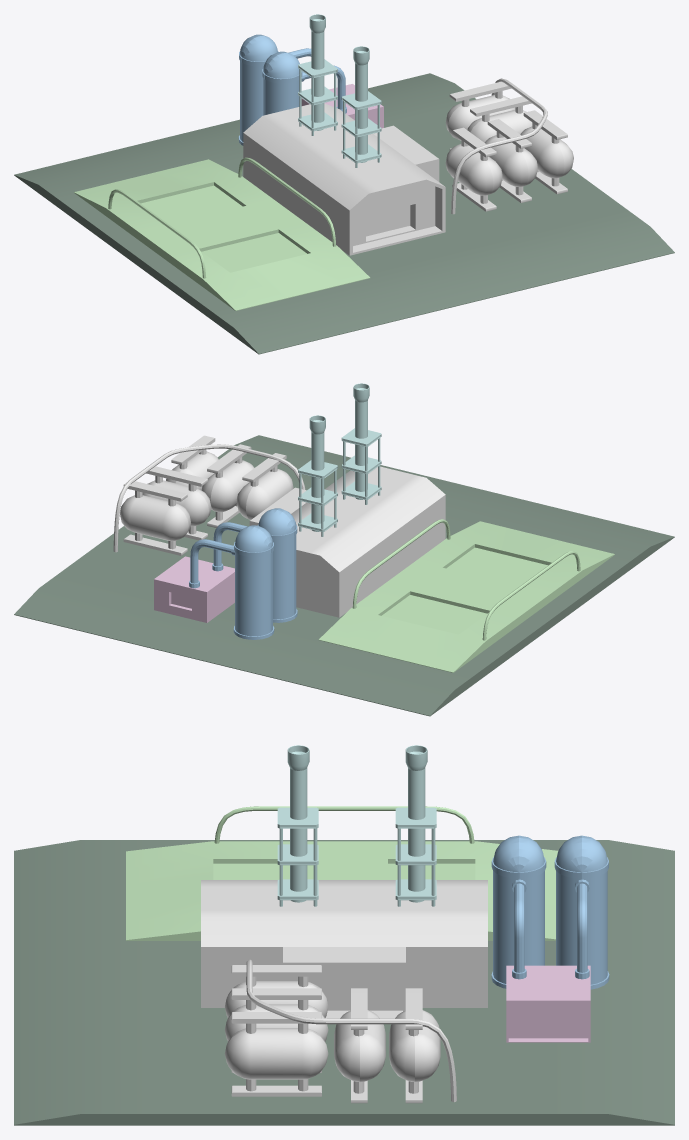
File: Refinery.fbx
3 renders of one model, top to bottom at view 1: azimuth 30°, elevation 25°; view 2: azimuth 150°, elevation 25°; view 3: azimuth 270°, elevation 25°, orthographic. The views are drawn at different scales.
Visible parts, largest first — view 1: Ground_Mesh, DropoffPad_Mesh, MainBuilding_Mesh, TankArray_Mesh, Smokestacks_Mesh, LargeStorageTanks_Mesh, DropoffPad_GuardRail_Mesh, SecondaryBuilding_Mesh; view 2: Ground_Mesh, DropoffPad_Mesh, MainBuilding_Mesh, TankArray_Mesh, LargeStorageTanks_Mesh, Smokestacks_Mesh, SecondaryBuilding_Mesh, DropoffPad_GuardRail_Mesh; view 3: Ground_Mesh, MainBuilding_Mesh, TankArray_Mesh, DropoffPad_Mesh, LargeStorageTanks_Mesh, Smokestacks_Mesh, SecondaryBuilding_Mesh, DropoffPad_GuardRail_Mesh.
Boxes of the visible parts, x1,y1,x2,y2 form: Ground_Mesh: (14,73,674,354); DropoffPad_Mesh: (74,159,370,310); MainBuilding_Mesh: (243,103,445,255); TankArray_Mesh: (445,78,573,214); Smokestacks_Mesh: (298,14,381,167); LargeStorageTanks_Mesh: (238,34,346,145); DropoffPad_GuardRail_Mesh: (108,157,335,278); SecondaryBuilding_Mesh: (301,84,383,128); Ground_Mesh: (14,435,674,716); DropoffPad_Mesh: (318,521,614,672); MainBuilding_Mesh: (249,466,445,617); TankArray_Mesh: (113,435,305,555); LargeStorageTanks_Mesh: (189,508,297,639); Smokestacks_Mesh: (298,383,381,536); SecondaryBuilding_Mesh: (154,556,234,622); DropoffPad_GuardRail_Mesh: (352,519,580,640); Ground_Mesh: (14,840,674,1125); MainBuilding_Mesh: (201,880,487,1018); TankArray_Mesh: (224,959,456,1103); DropoffPad_Mesh: (126,841,558,940); LargeStorageTanks_Mesh: (491,835,609,989); Smokestacks_Mesh: (277,745,436,906); SecondaryBuilding_Mesh: (506,965,590,1042); DropoffPad_GuardRail_Mesh: (214,806,474,843).
Bounding box in the file's own units: 2639 × 1072 × 2690.
